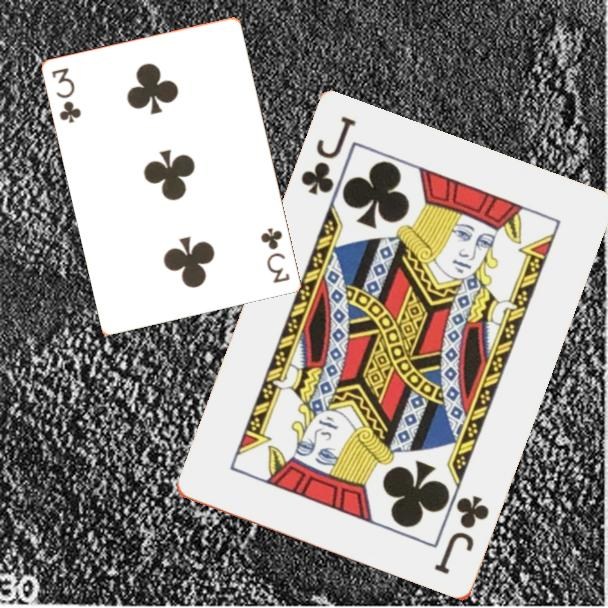c03: (257, 224, 293, 286), (48, 64, 84, 126)
c11: (431, 492, 493, 578), (297, 113, 359, 199)
